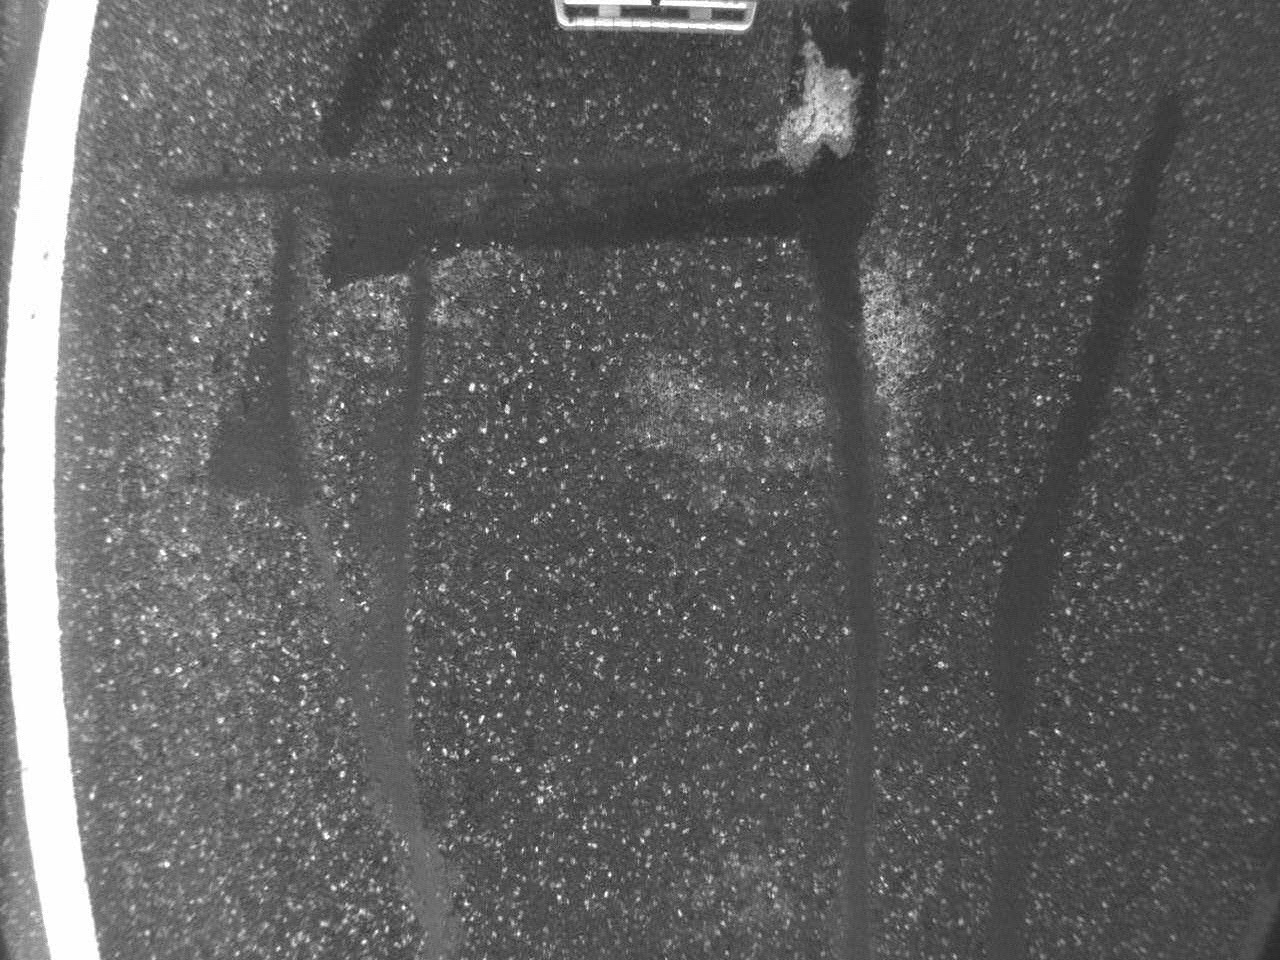sealed: (972, 120, 1189, 950)
